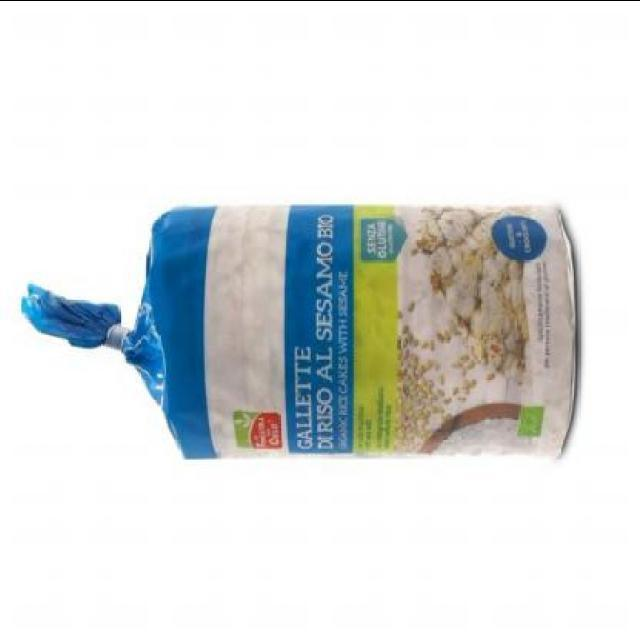Gallette di riso: (16, 196, 576, 462)
